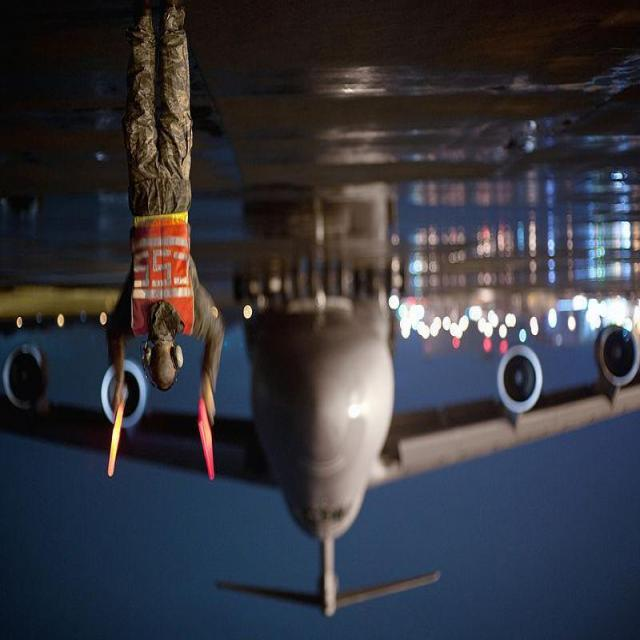jacket: (125, 211, 200, 351)
